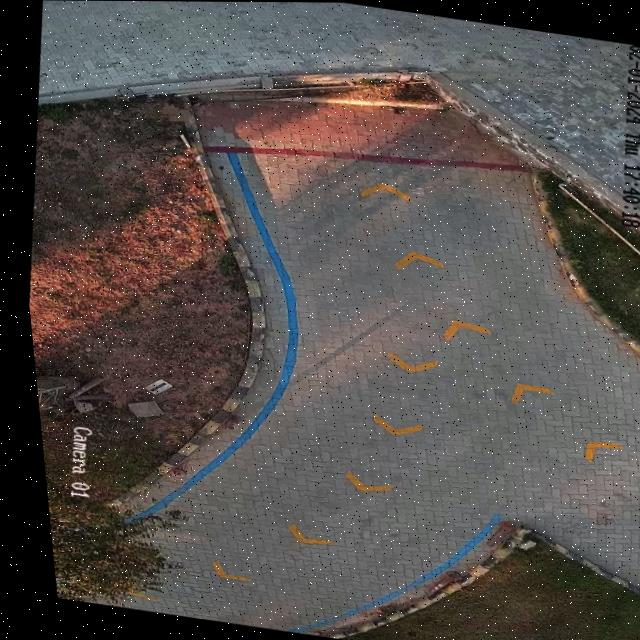No Car: (23, 0, 640, 640)
